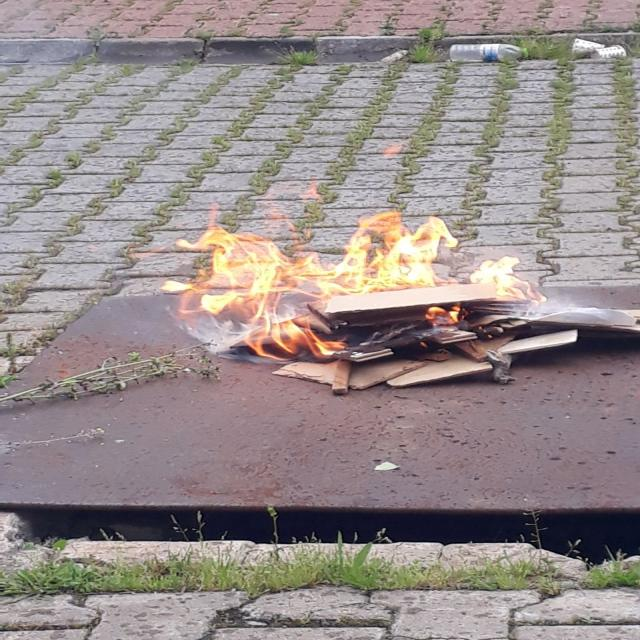fire: (160, 136, 604, 417)
